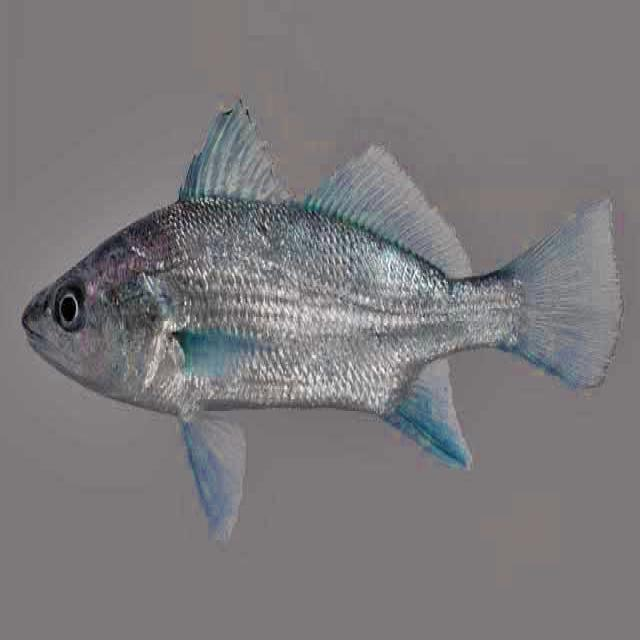Healthy Fish: (10, 93, 640, 548)
